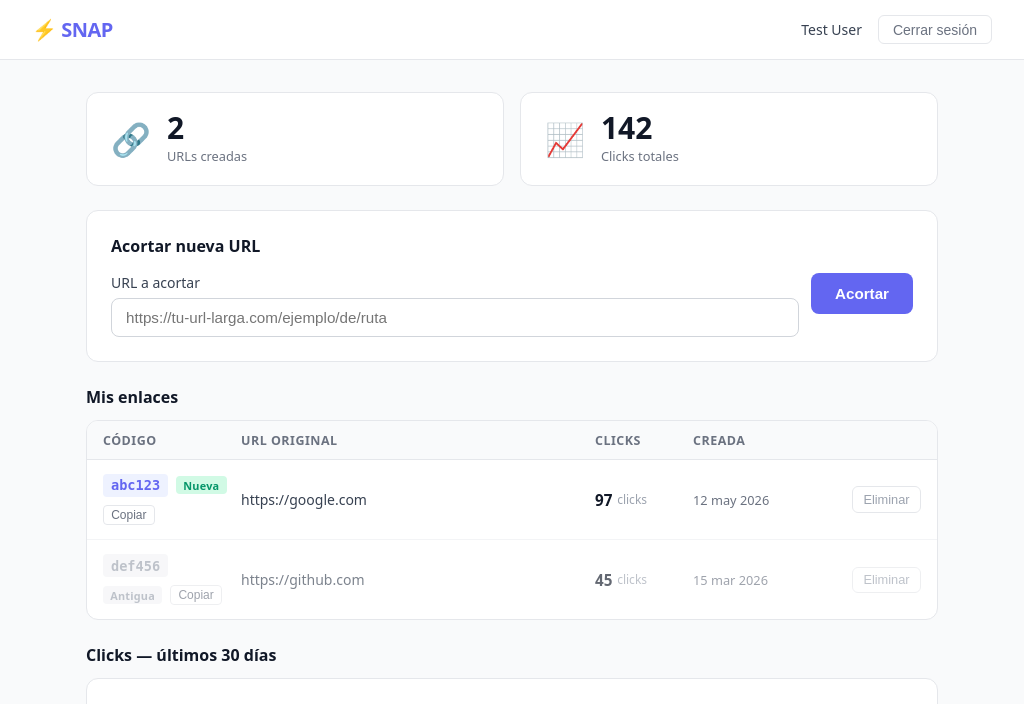
Scenario: CreateUrlForm › muestra error si se envía vacío
Check: the heading "Acortar nueva URL" is shown, box x1=111 y1=235 x2=260 y2=257
Click the button "Acortar" at [862, 294], box x1=811 y1=273 x2=913 y2=314
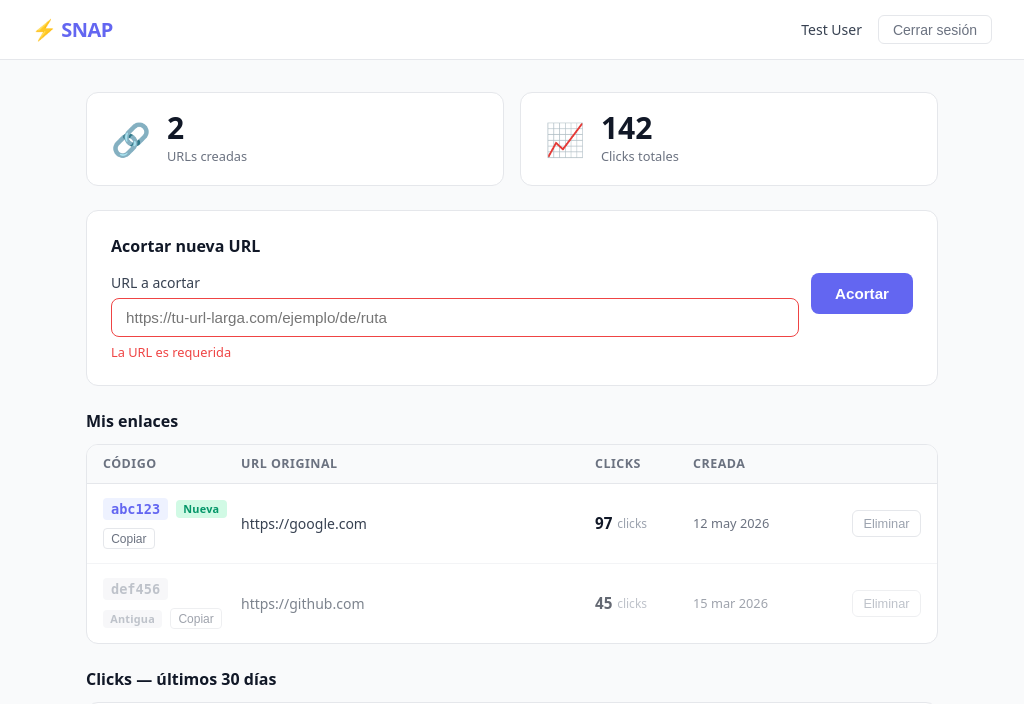
Check: the text "La URL es requerida" is shown, box x1=111 y1=343 x2=231 y2=361
